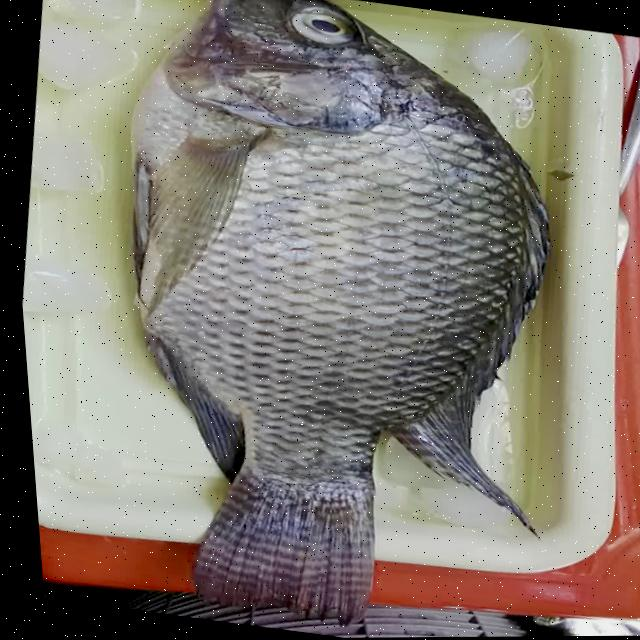Fresh: (82, 39, 567, 374), (271, 0, 381, 57)
